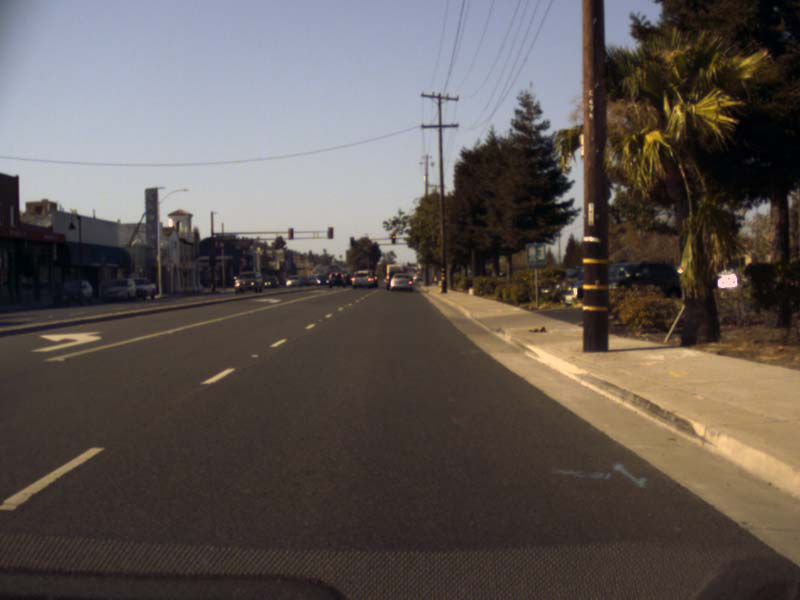Red: (391, 235, 396, 244)
